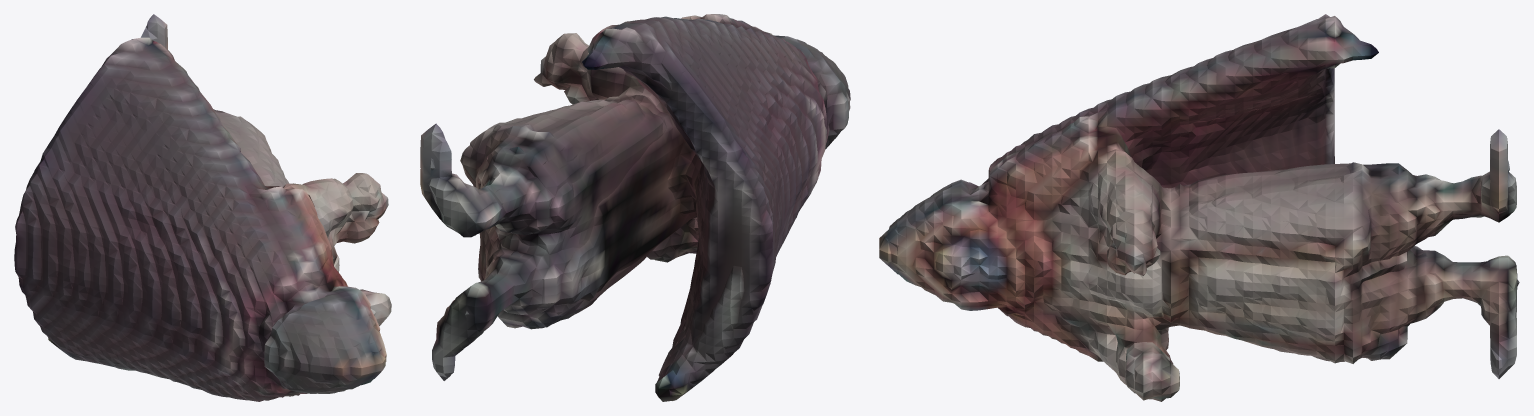
File: medieval_scholar_m_0.glb
3 renders of one model, left to right at view 1: azimuth 30°, elevation 25°; view 2: azimuth 150°, elevation 25°; view 3: azimuth 270°, elevation 25°, orthographic. The views are drawn at different scales.
Visible parts, largest first — view 1: world; view 2: world; view 3: world.
Boxes of the visible parts, box(x1,y1,x2,y2) form: world: box(14, 14, 391, 401); world: box(420, 14, 850, 401); world: box(879, 14, 1519, 401).
Size of the model in its own units: 0.5724 by 0.5727 by 0.9627.
